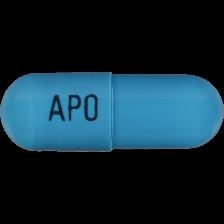60505-2650: (0, 0, 224, 224)
